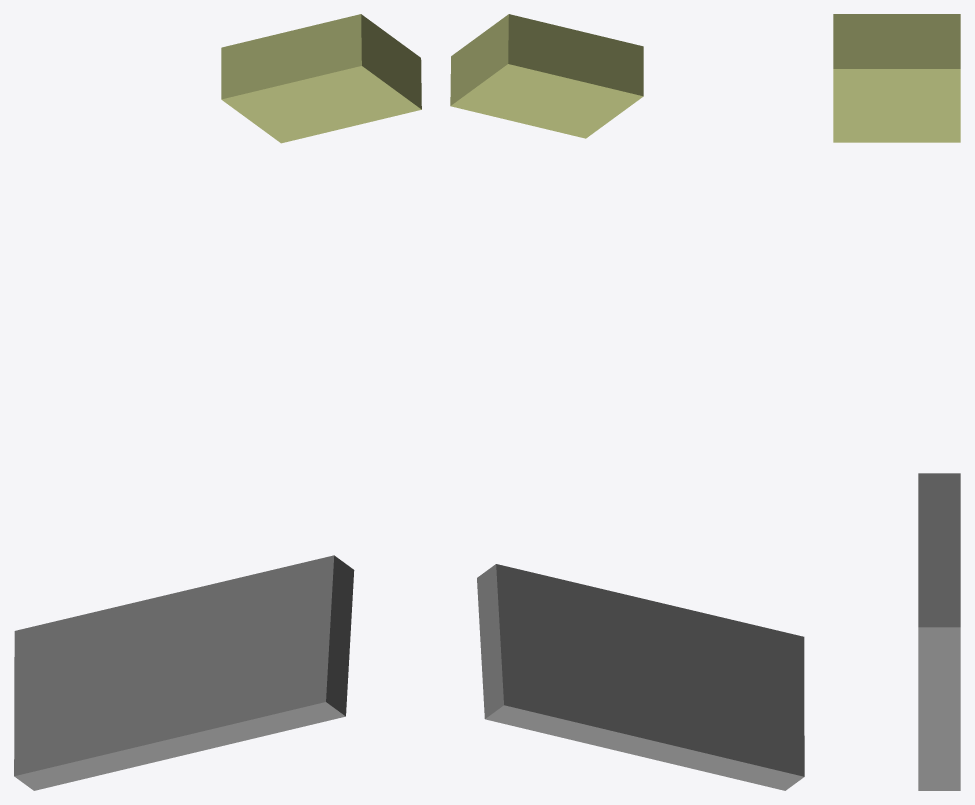
3 renders of one model, left to right at view 1: azimuth 30°, elevation 25°; view 2: azimuth 150°, elevation 25°; view 3: azimuth 270°, elevation 25°, orthographic. The views are drawn at different scales.
Parts seen in each view (by area): view 1: 0_2_0_1_2_1_2_1_2; view 2: 0_2_0_1_2_1_2_1_2; view 3: 0_2_0_1_2_1_2_1_2.
Boxes of the visible parts, bbox=[...] form: 0_2_0_1_2_1_2_1_2: bbox=[14, 14, 421, 790]; 0_2_0_1_2_1_2_1_2: bbox=[450, 14, 804, 790]; 0_2_0_1_2_1_2_1_2: bbox=[833, 14, 960, 790].
Size of the model in its own units: 30.12 by 56.29 by 9.01.
